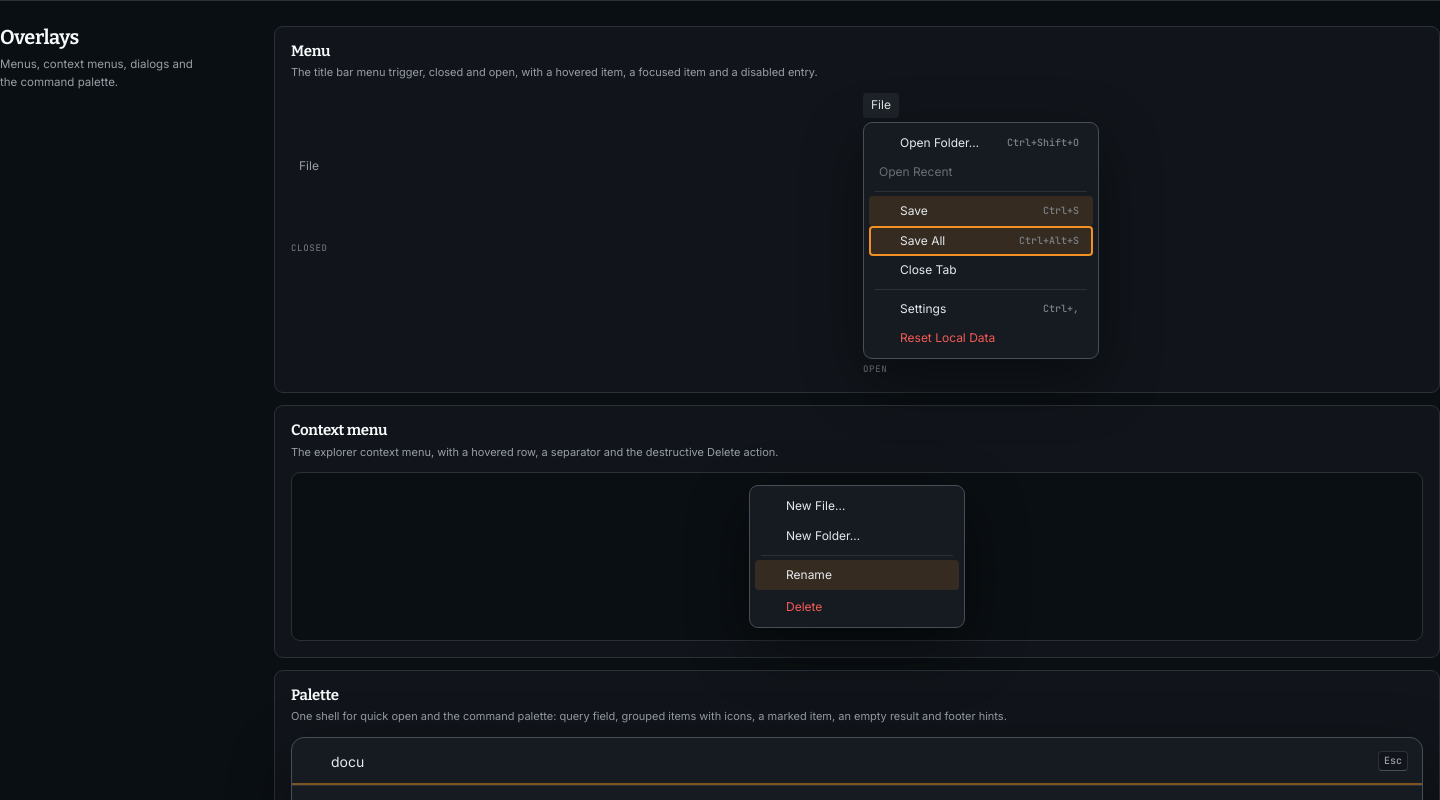
Test: kit overlays gallery › shows the context menu and closes it when an action is chosen
Check: the menu item "New Folder…" is shown, box left=755, top=521, right=959, bottom=551
Check: the menu item "Rename" is shown, box left=755, top=560, right=959, bottom=590
Click the menu item with test id "context-menu-item-new-file". click: (857, 506)
box: left=755, top=491, right=959, bottom=521
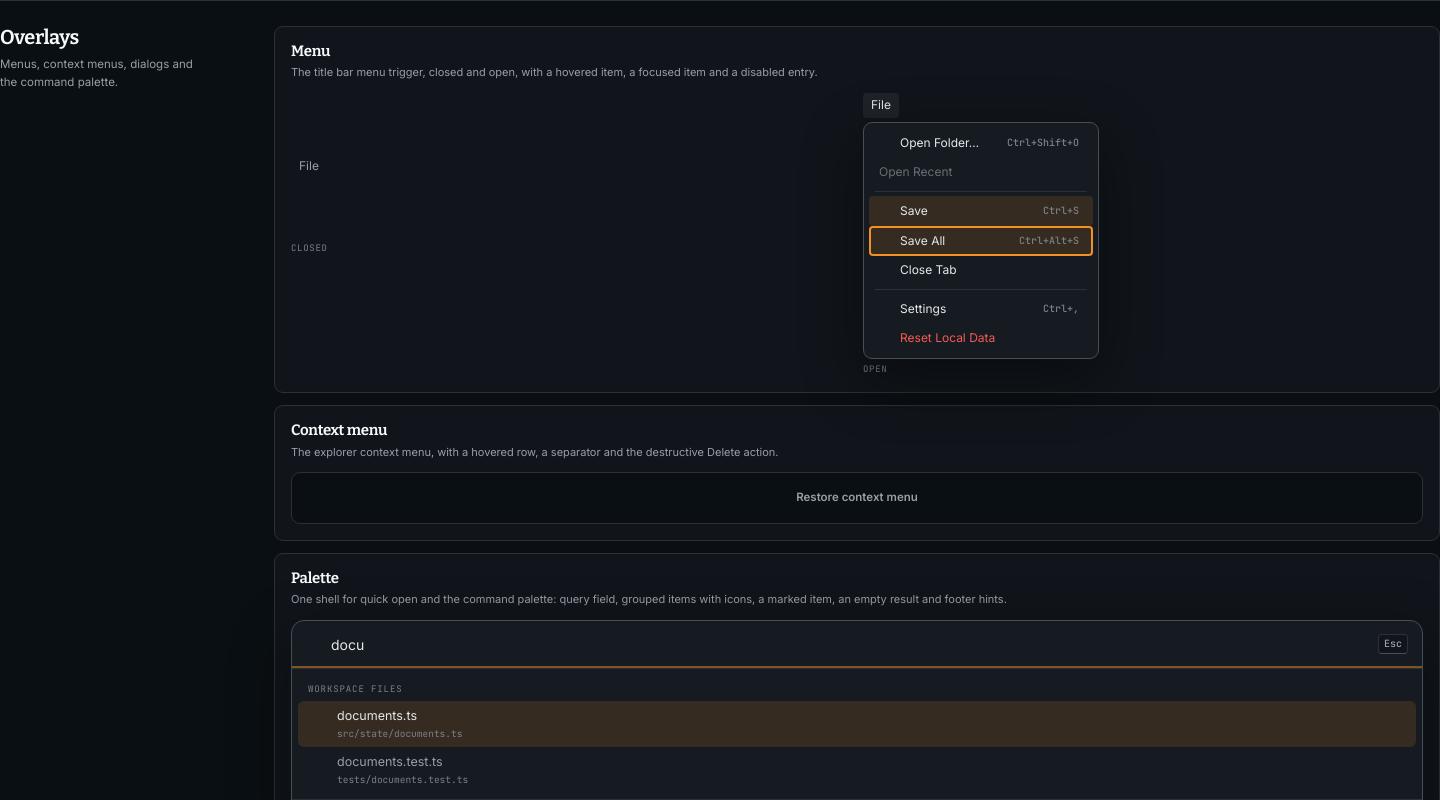
Check: the menu with test id "context-menu" is gone
Check: the button with test id "context-menu-restore" is shown, box left=786, top=485, right=928, bottom=511
